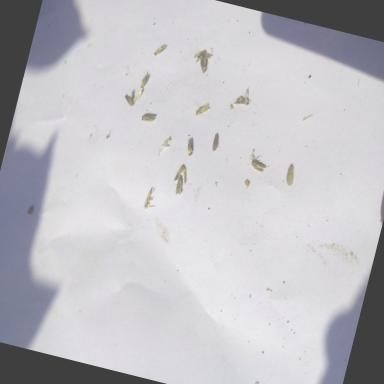pbw: (143, 186, 160, 212), (196, 50, 211, 76), (194, 100, 211, 119), (138, 68, 152, 90), (182, 136, 196, 157), (152, 41, 168, 58), (284, 164, 296, 186), (210, 132, 222, 154), (173, 176, 185, 196), (252, 154, 268, 168), (140, 110, 156, 124), (172, 164, 184, 182), (122, 94, 136, 107), (180, 167, 189, 185), (133, 90, 142, 104)
